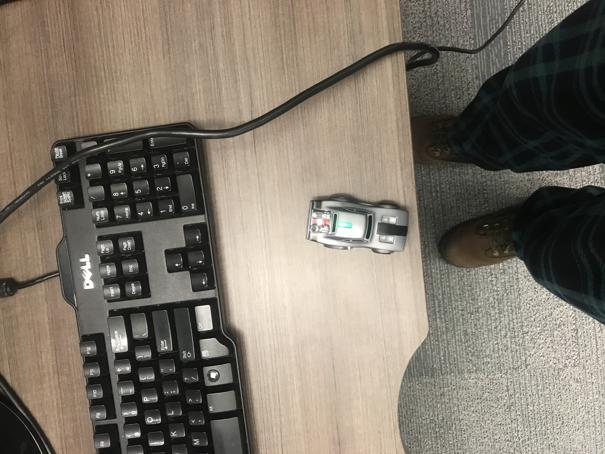Charger: (304, 190, 411, 257)
